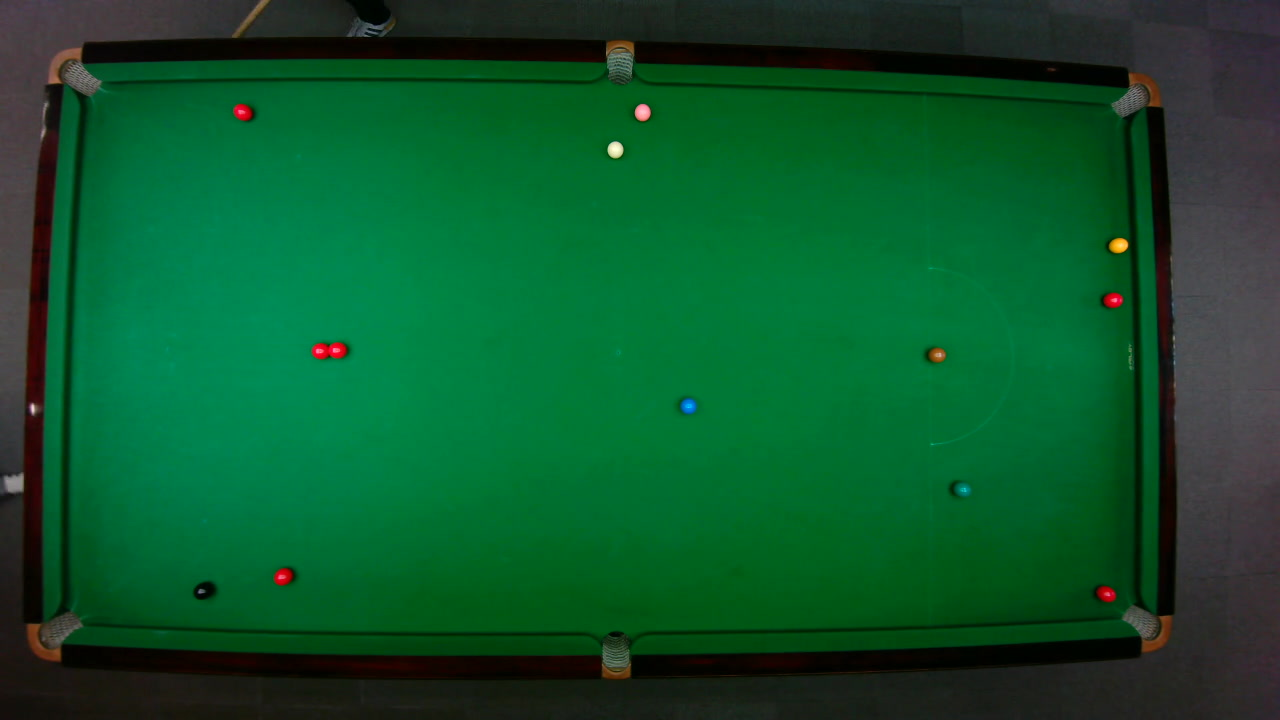bag: (25, 609, 84, 661), (45, 46, 102, 96), (1119, 603, 1172, 652), (1108, 71, 1161, 117), (601, 629, 630, 680), (605, 38, 633, 85)
black: (192, 581, 213, 600)
blue: (678, 396, 697, 414)
brown: (926, 346, 946, 362)
green: (951, 480, 972, 497)
pink: (632, 102, 651, 121)
red: (272, 566, 294, 586), (325, 340, 347, 359), (310, 341, 331, 360), (232, 102, 253, 121), (1094, 584, 1116, 602), (1101, 291, 1124, 308)
white: (605, 139, 625, 159)
yellow: (1107, 236, 1129, 253)
zone: (927, 266, 1013, 445)
